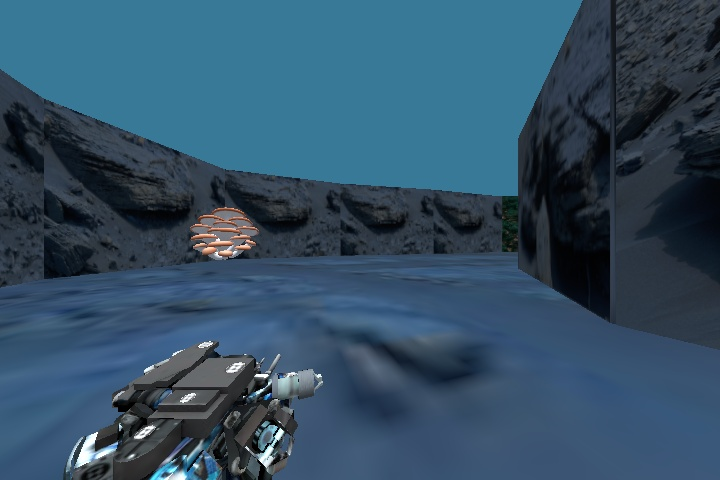mushrooms: (172, 197, 267, 266)
